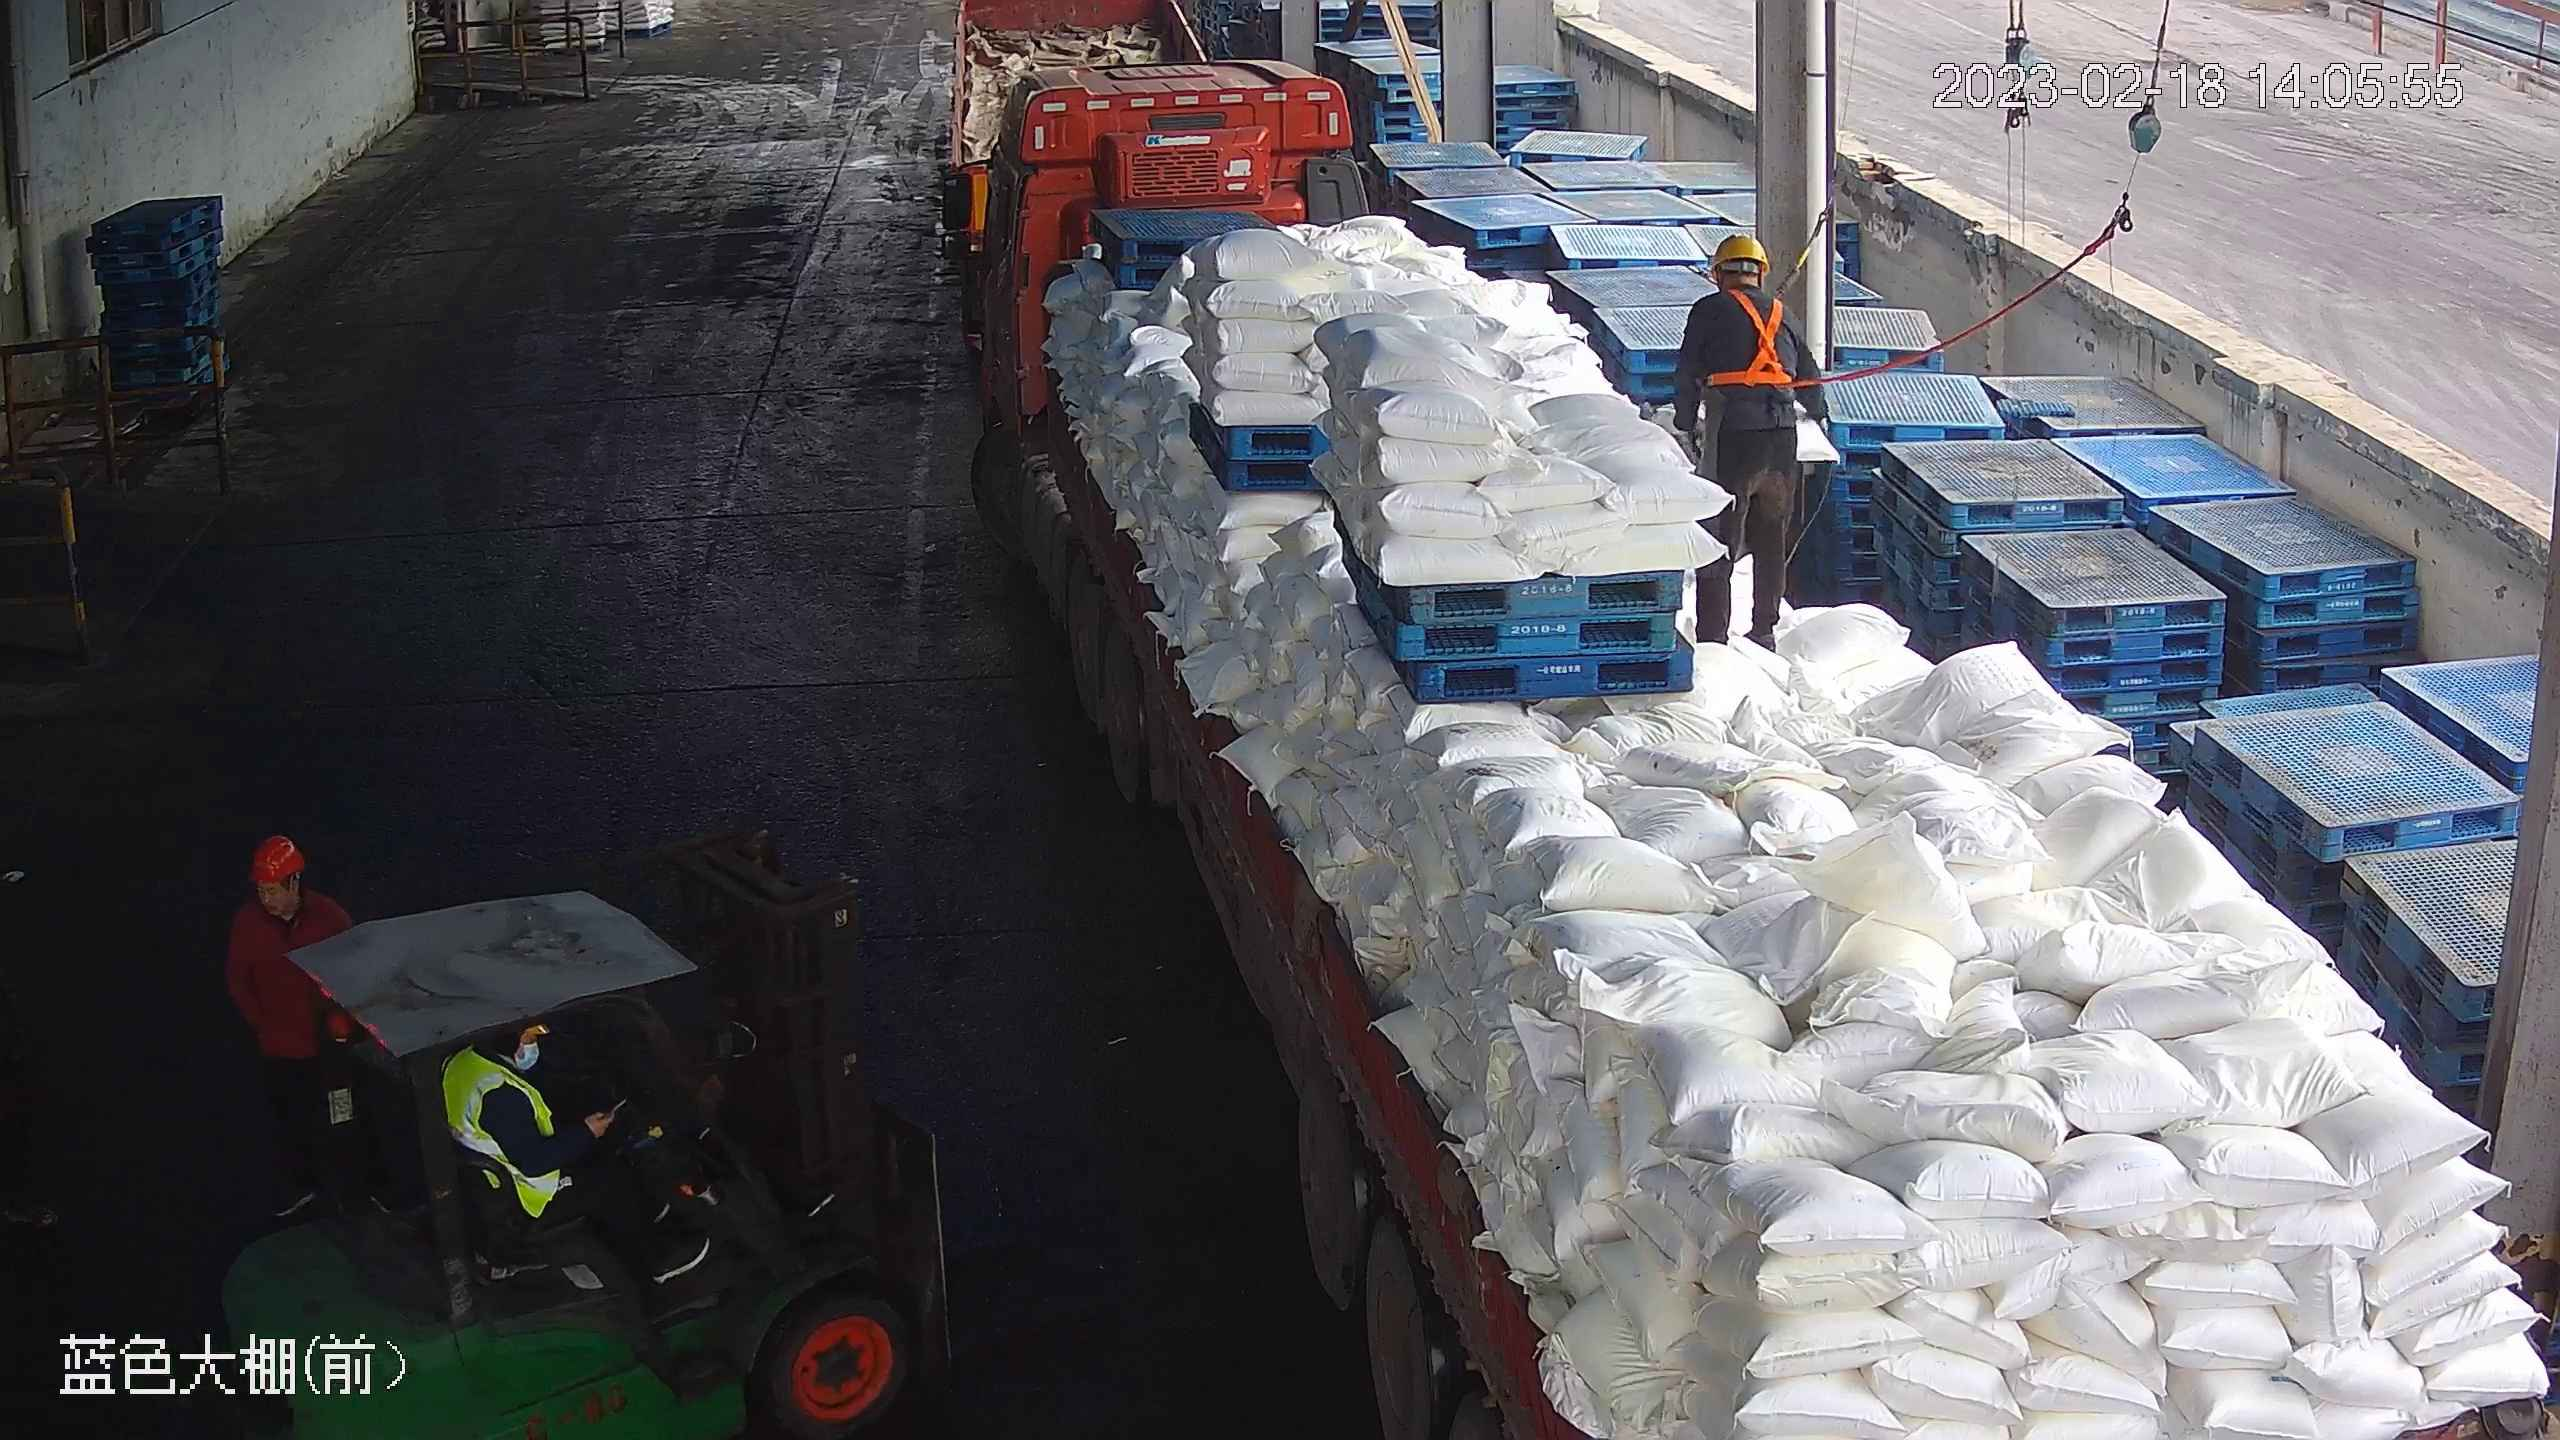belt: (1705, 283, 1811, 389)
head: (228, 831, 351, 965), (1682, 230, 1809, 342)
helmet: (1705, 230, 1770, 278), (249, 832, 306, 884)
people: (1670, 229, 1823, 656), (226, 832, 367, 1203), (451, 1010, 656, 1265)
truck: (951, 41, 2549, 1440)
